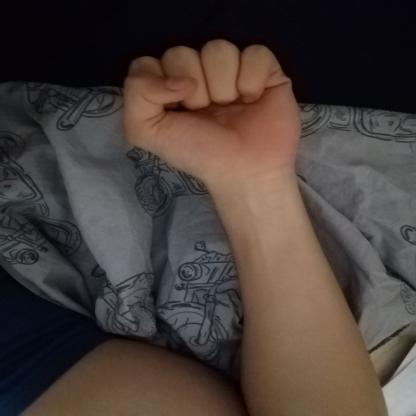SAD: (102, 24, 324, 189)
